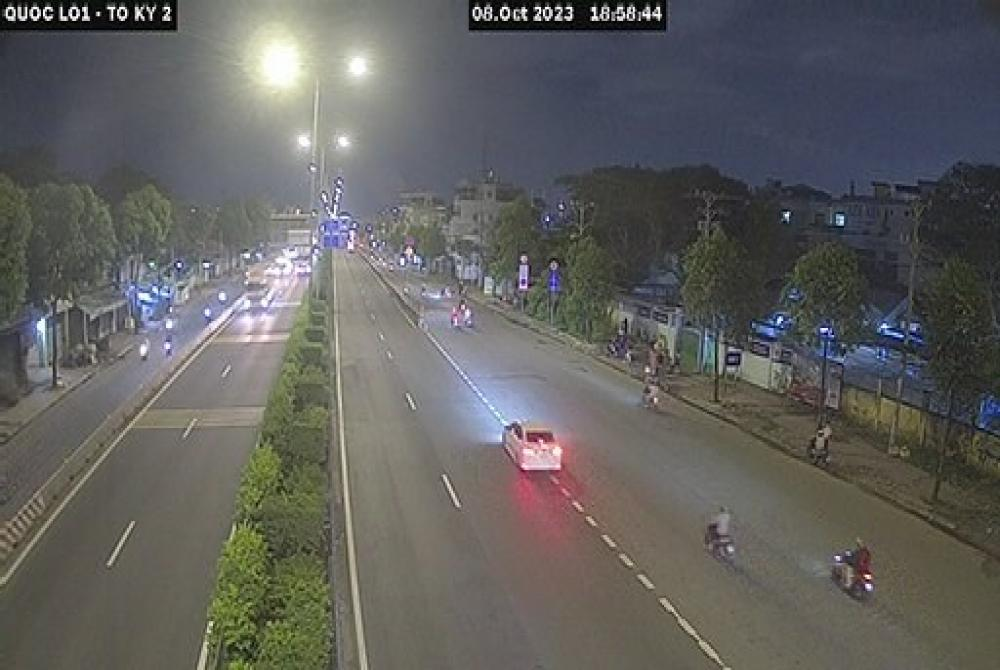car: (500, 417, 572, 488)
